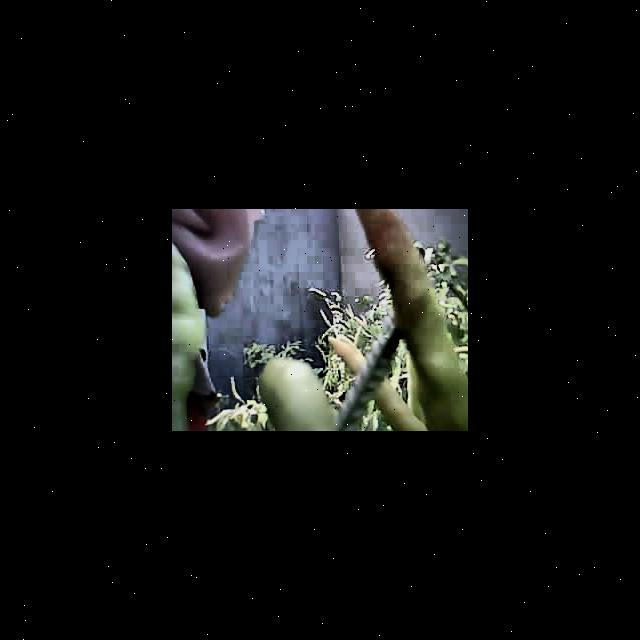Cabai: (355, 209, 468, 431)
